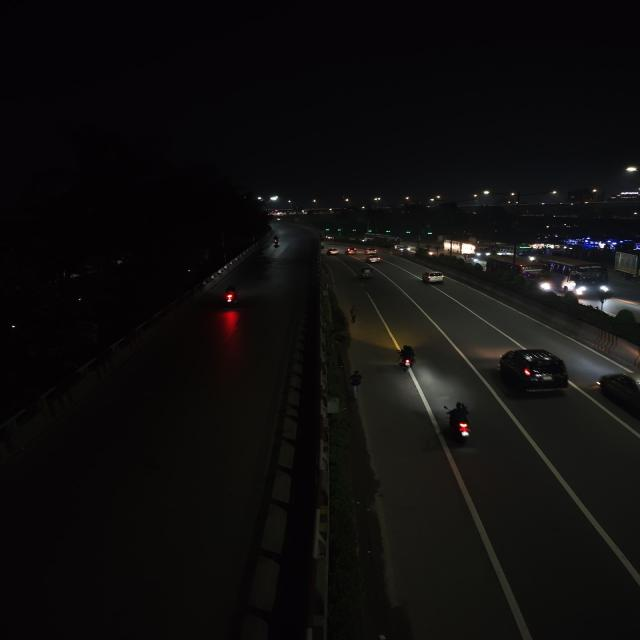bus: (546, 257, 610, 297), (486, 256, 553, 294), (445, 239, 480, 257), (467, 242, 493, 258)
car: (492, 344, 574, 398), (592, 369, 640, 421), (419, 268, 447, 284), (364, 253, 383, 264), (346, 247, 358, 256), (327, 249, 339, 256)
cng: (359, 266, 375, 280)
motorcycle: (440, 400, 482, 448), (393, 343, 423, 375), (220, 284, 242, 308), (270, 235, 281, 249)
pedestrian: (347, 305, 362, 325)
truck: (612, 248, 640, 284)
